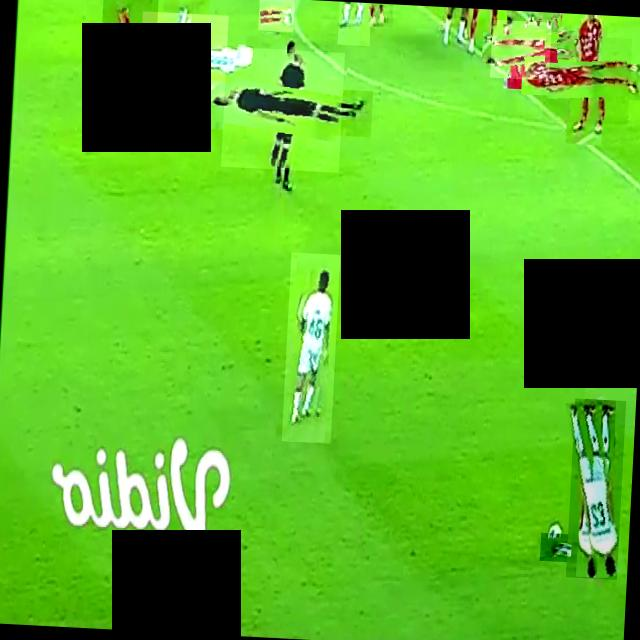ball: (539, 532, 567, 561)
referee: (220, 46, 344, 172)
soccer-player: (280, 252, 340, 442), (565, 398, 625, 578), (138, 10, 228, 100), (541, 34, 631, 124), (98, 0, 158, 88), (489, 19, 551, 80), (521, 17, 571, 66), (336, 0, 371, 46), (257, 0, 294, 31), (368, 2, 392, 26)
